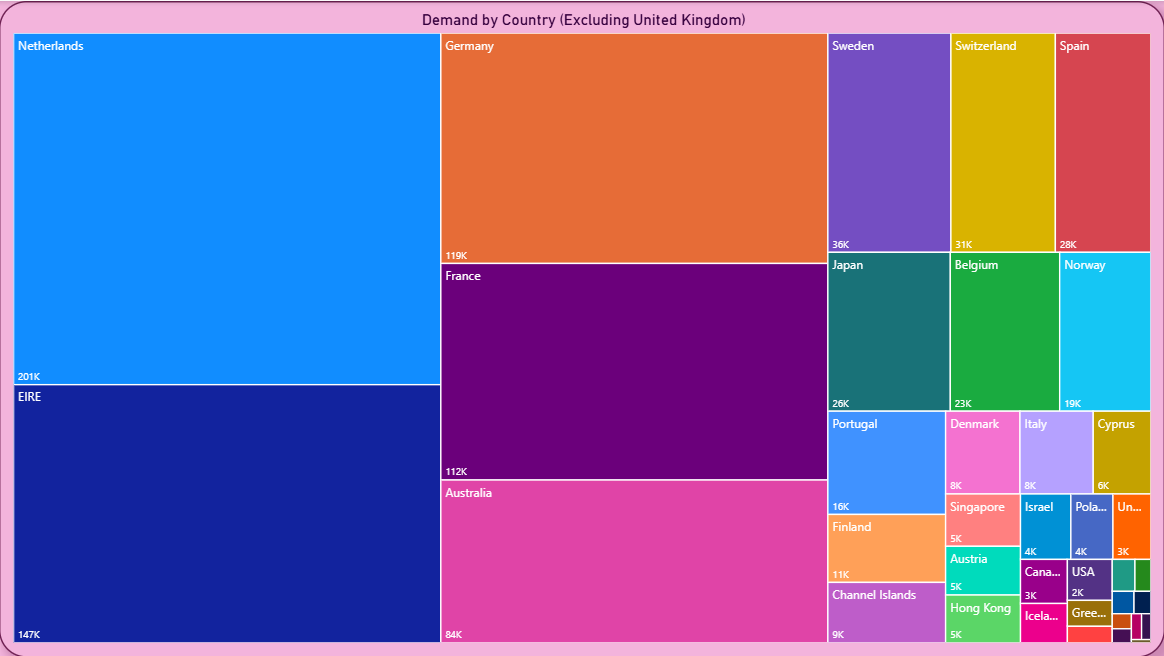

The dashboard page shown, as its layout file describes it:
{"tool":"powerbi","page":{"name":"Demand by Country (Excluding United Kingdom)","canvas":[1280,720],"ordinal":4},"visuals":[{"type":"treemap","title":"Demand by Country (Excluding United Kingdom)","fields":{"Group":["Online Retail.Country"],"Values":["Sum(Online Retail.Quantity)"]},"box":[0,0,1280.3,720.4],"z":3000}]}

Visuals, with their boxes in screenshot pixels (x1, y1, x2, y2), scaled from the page's 1280x720 canvas onto the 1164x656 screenshot:
"Demand by Country (Excluding United Kingdom)" treemap: Rect(0, 0, 1163, 655)
